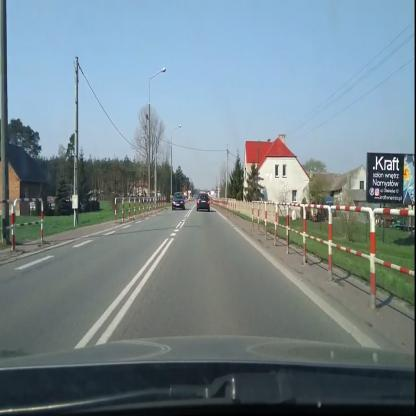cars: (197, 192, 210, 212), (172, 192, 185, 211)
